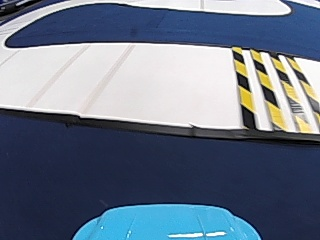bump: (213, 46, 311, 124)
